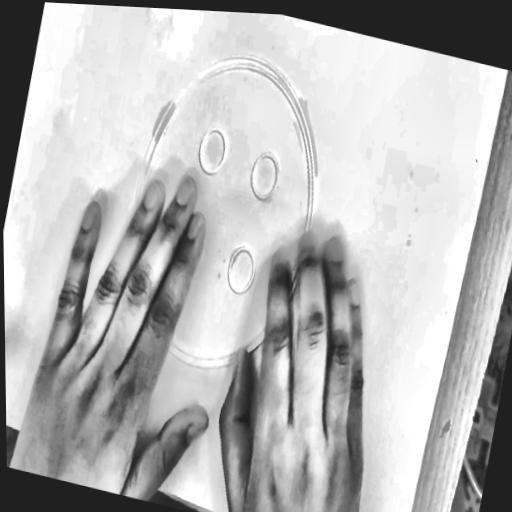button: (87, 25, 351, 415)
